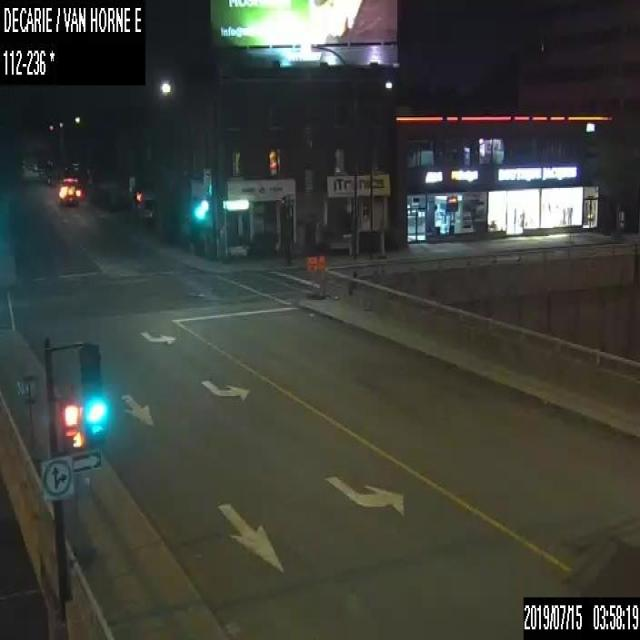construction: (18, 374, 42, 472), (304, 253, 316, 299), (317, 254, 326, 299)
vehicle: (57, 176, 81, 204), (138, 190, 152, 228)
